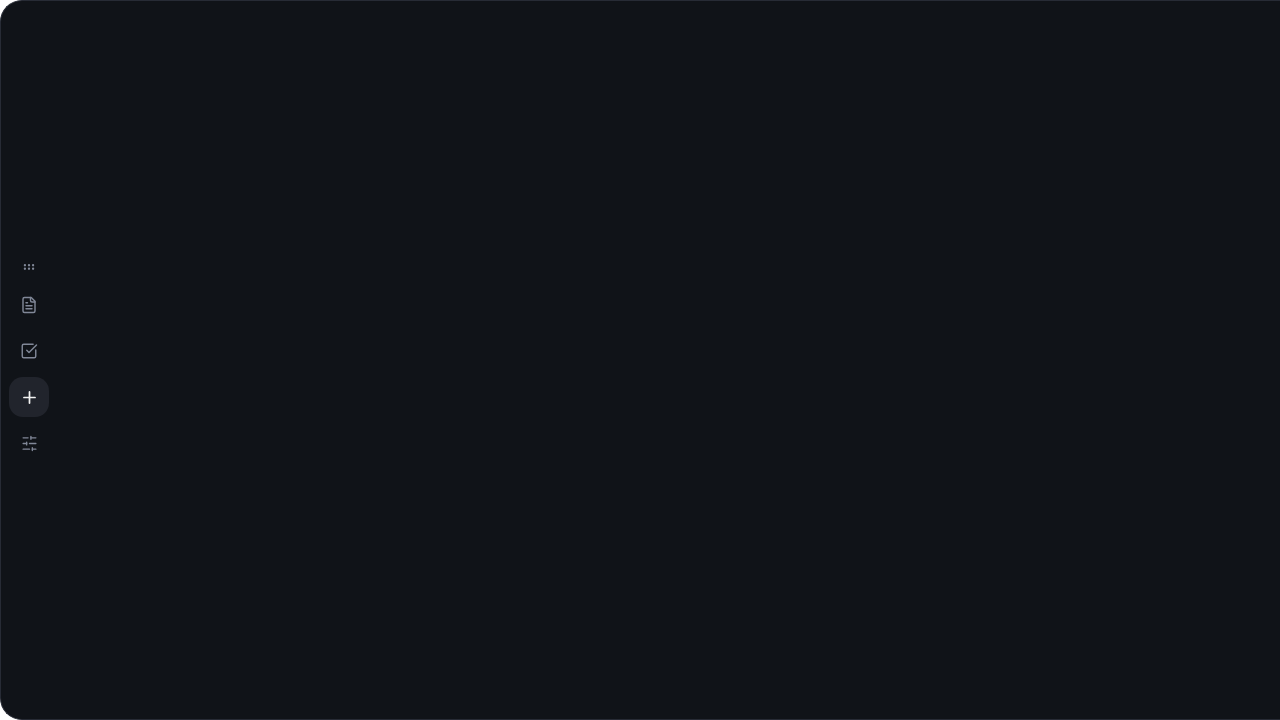
Test: App (fluxos integrados do dock) › impede que getDockState inicial atrasado sobrescreva ação já executada pelo usuário
The width and height of the screenshot is (1280, 720).
Click the button named "Notas rápidas" at (29, 305), box [9,285,49,325]
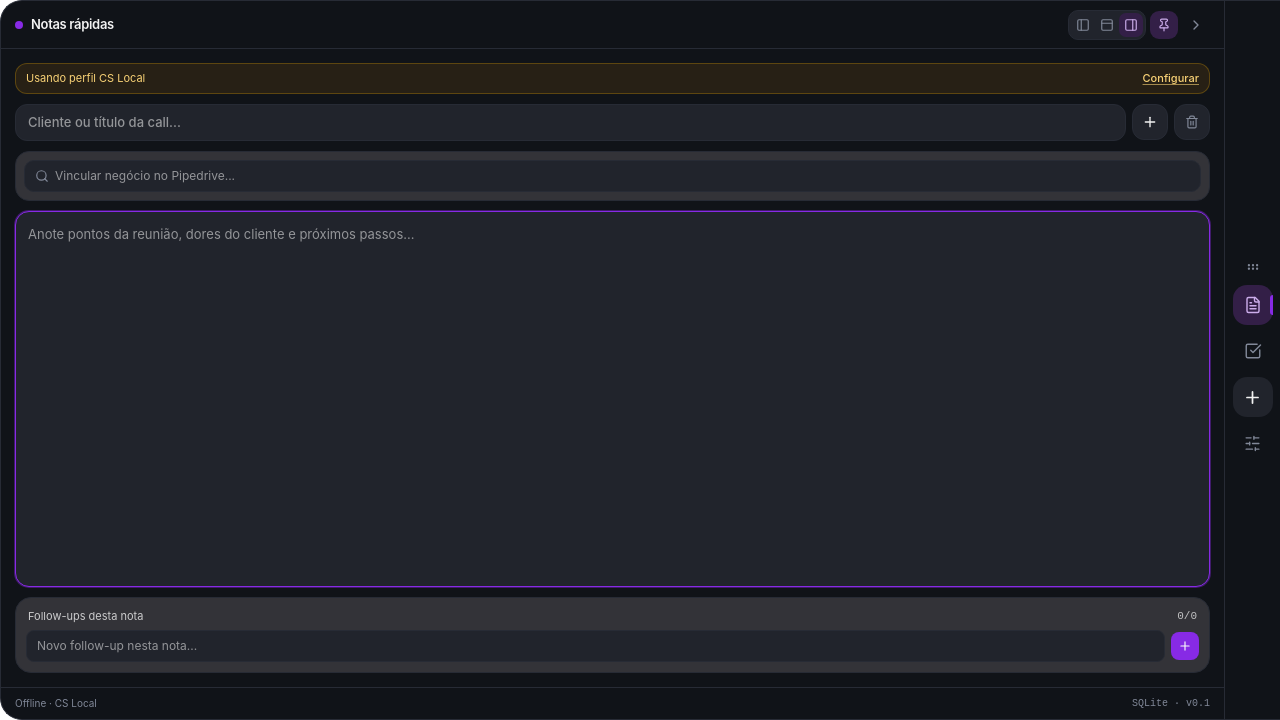
Check: the heading "Notas rápidas" is shown, box [31,15,114,34]
